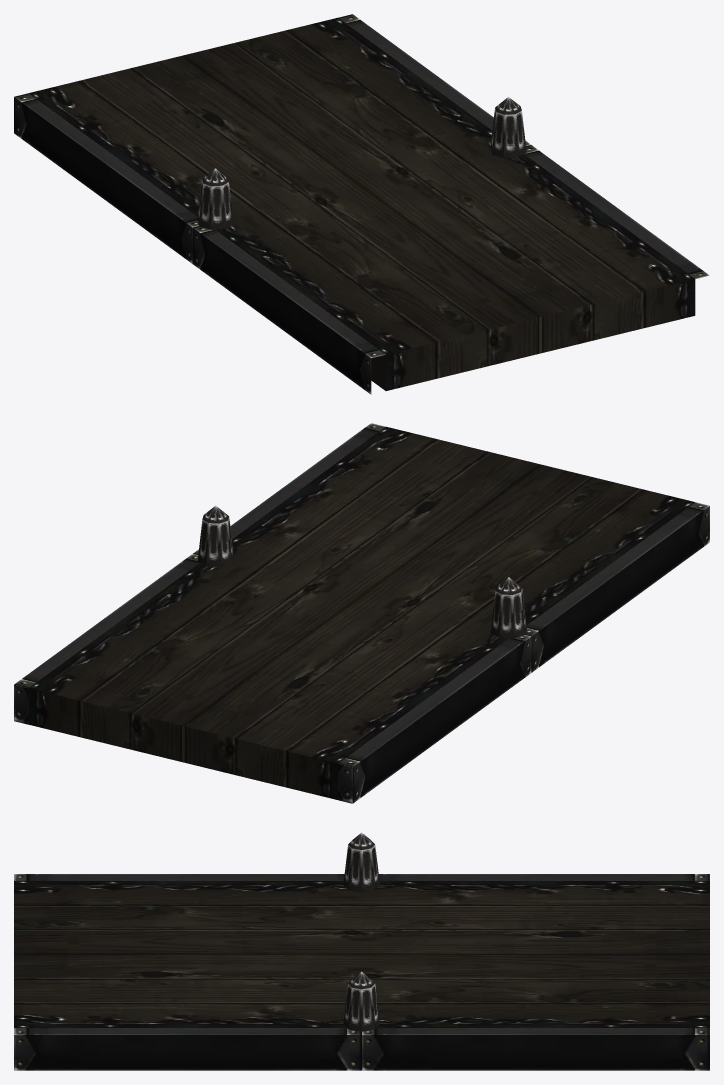
3 renders of one model, top to bottom at view 1: azimuth 30°, elevation 25°; view 2: azimuth 150°, elevation 25°; view 3: azimuth 270°, elevation 25°, orthographic. The views are drawn at different scales.
Parts seen in each view (by area): view 1: model_Object37; view 2: model_Object37; view 3: model_Object37.
Part boxes in pixels (x1,y1,x2,y2): model_Object37: (14, 14, 709, 394); model_Object37: (14, 423, 709, 803); model_Object37: (14, 832, 709, 1070).
Bounding box in the file's own units: 3.28 × 0.8377 × 6.
Materials: 3 (3 with a texture image).
